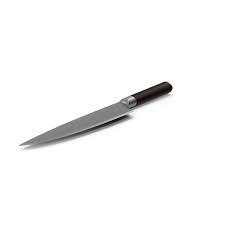Knife: (18, 80, 172, 147)
